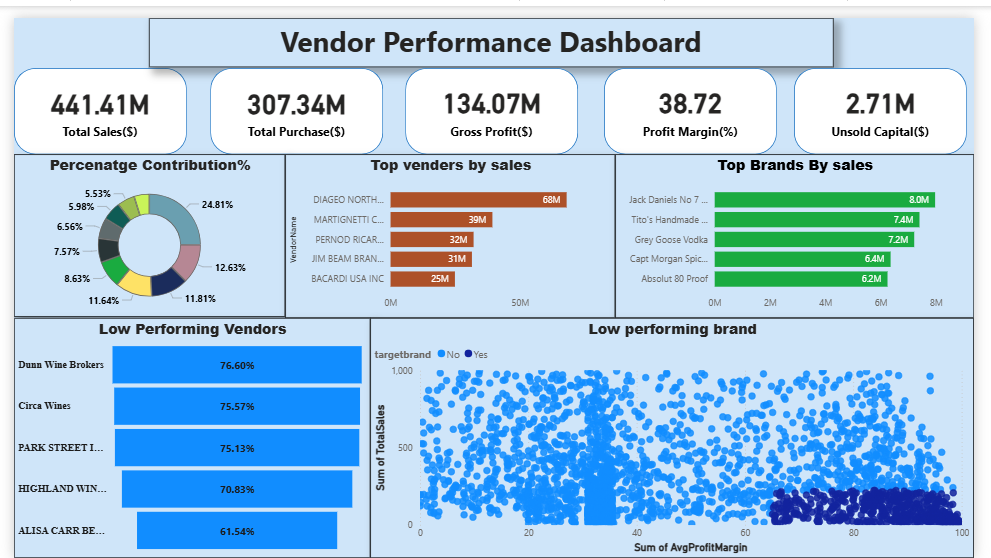

The page's visual inventory and layout, read from the dashboard file:
{"tool":"powerbi","page":{"name":"Page 1","canvas":[1280,720],"ordinal":0},"visuals":[{"type":"shape","box":[0,65.9,230.5,115.3],"z":0},{"type":"textbox","box":[179.8,0,912.5,65.9],"z":1000},{"type":"card","fields":{"Values":["Sum(vendor_sales_summary.TotalSalesDollars)"]},"box":[24.7,76.8,179.8,93.3],"z":2000},{"type":"shape","box":[262.1,65.9,230.5,115.3],"z":3000},{"type":"shape","box":[521.4,65.9,230.5,115.3],"z":4000},{"type":"shape","box":[786.3,65.9,230.5,115.3],"z":5000},{"type":"shape","box":[1040.1,65.9,230.5,115.3],"z":6000},{"type":"card","fields":{"Values":["Sum(vendor_sales_summary.TotalPurchaseDollars)"]},"box":[262.1,48,230.5,149.6],"z":7000},{"type":"card","fields":{"Values":["Sum(vendor_sales_summary.GrossProfit)"]},"box":[521.4,46.7,230.5,150.9],"z":8000},{"type":"card","fields":{"Values":["Avg(vendor_sales_summary.ProfitMargin)"]},"box":[786.3,46.7,230.5,150.9],"z":9000},{"type":"card","fields":{"Values":["Sum(vendor_sales_summary.UnsoldCapital)"]},"box":[1040.1,46.7,230.5,150.9],"z":10000},{"type":"donutChart","title":"Percenatge Contribution% ","fields":{"Category":["PurchaseContribution.VendorName"],"Y":["Sum(PurchaseContribution.percenatgeContribution%)"]},"box":[0,181.7,361.7,216.7],"z":11000},{"type":"barChart","title":"Top venders by sales","fields":{"Category":["vendor_sales_summary.VendorName"],"Y":["Sum(vendor_sales_summary.TotalSalesDollars)"]},"box":[361.7,181.7,440,218.3],"z":12000},{"type":"barChart","title":"Top Brands By sales","fields":{"Category":["vendor_sales_summary.Description"],"Y":["Sum(vendor_sales_summary.TotalSalesDollars)"]},"box":[801.7,181.7,478.3,218.3],"z":13000},{"type":"funnel","title":"Low Performing Vendors","fields":{"Category":["lowturnoverVendor.VendorName"],"Y":["Sum(lowturnoverVendor.AvgStockTurnOver)"]},"box":[0,400,475,320],"z":14000},{"type":"scatterChart","title":"Low performing brand","fields":{"Category":["brandperformance.Description"],"X":["Sum(brandperformance.AvgProfitMargin)"],"Y":["Sum(brandperformance.TotalSales)"],"Series":["brandperformance.targetbrand"]},"box":[475,400,805,320],"z":15000}]}

Visuals, with their boxes in screenshot pixels (x1, y1, x2, y2), scaled from the page's 1280x720 canvas onto the 991x558 screenshot:
shape: {"left": 0, "top": 51, "right": 178, "bottom": 140}
textbox: {"left": 139, "top": 0, "right": 846, "bottom": 51}
card - Sum(vendor_sales_summary.TotalSalesDollars): {"left": 19, "top": 60, "right": 158, "bottom": 132}
shape: {"left": 203, "top": 51, "right": 381, "bottom": 140}
shape: {"left": 404, "top": 51, "right": 582, "bottom": 140}
shape: {"left": 609, "top": 51, "right": 787, "bottom": 140}
shape: {"left": 805, "top": 51, "right": 984, "bottom": 140}
card - Sum(vendor_sales_summary.TotalPurchaseDollars): {"left": 203, "top": 37, "right": 381, "bottom": 153}
card - Sum(vendor_sales_summary.GrossProfit): {"left": 404, "top": 36, "right": 582, "bottom": 153}
card - Avg(vendor_sales_summary.ProfitMargin): {"left": 609, "top": 36, "right": 787, "bottom": 153}
card - Sum(vendor_sales_summary.UnsoldCapital): {"left": 805, "top": 36, "right": 984, "bottom": 153}
"Percenatge Contribution% " donutChart: {"left": 0, "top": 141, "right": 280, "bottom": 309}
"Top venders by sales" barChart: {"left": 280, "top": 141, "right": 621, "bottom": 310}
"Top Brands By sales" barChart: {"left": 621, "top": 141, "right": 990, "bottom": 310}
"Low Performing Vendors" funnel: {"left": 0, "top": 310, "right": 368, "bottom": 557}
"Low performing brand" scatterChart: {"left": 368, "top": 310, "right": 990, "bottom": 557}
